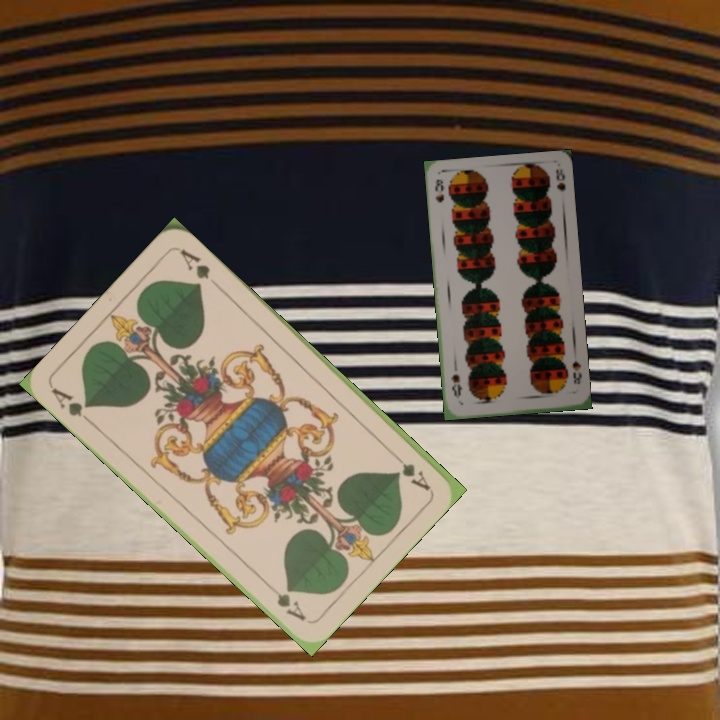GA: (385, 446, 433, 493), (47, 383, 97, 428)
S8: (568, 357, 584, 387), (431, 175, 447, 205)
